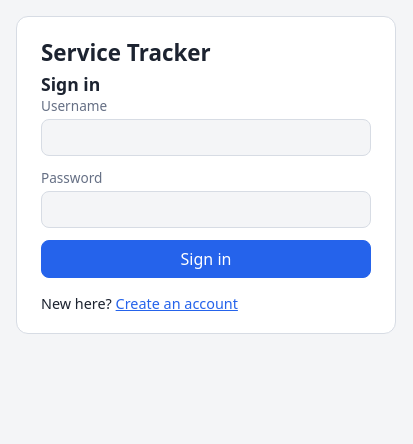
Test case: AuthPage › shows the error when sign in fails
Type "jane" into the field labelled "Username". click: (206, 138)
box: [41,119,371,156]
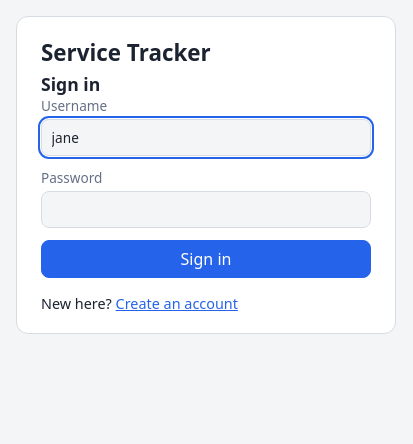
Type "wrong" into the password field labelled "Password". click: (206, 210)
box: [41,191,371,228]
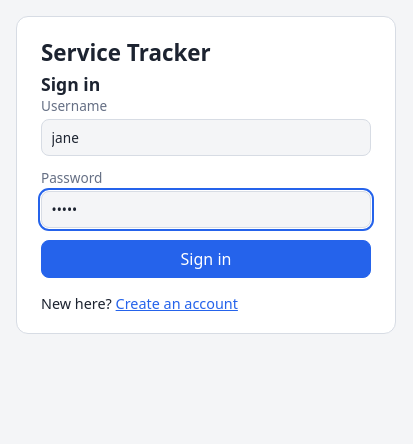
Click the button "Sign in". click: (206, 259)
box: [41,240,371,278]
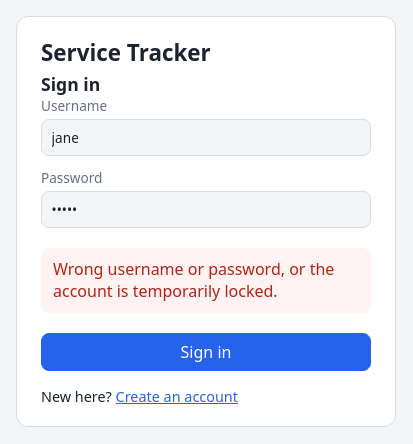
Expected: the button "Sign in" is enabled, [41,333,371,371]
Now the message shows "Wrong username or password", box [53,258,334,302]
